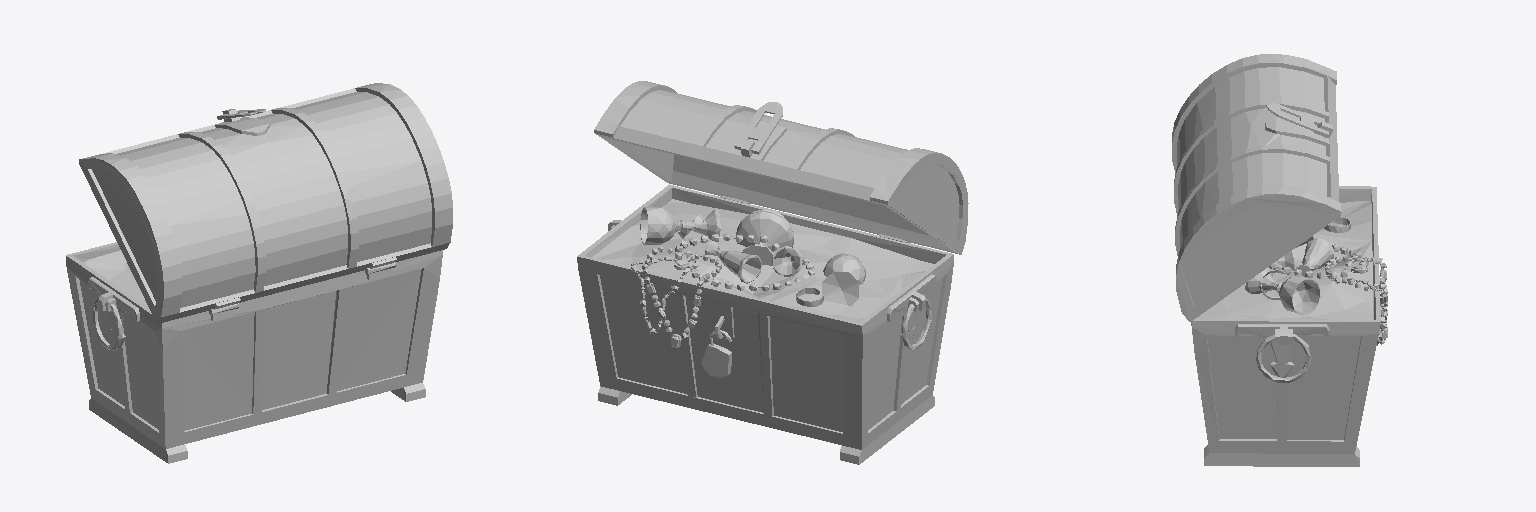
Rendered from tesouro.obj.
3 views of the same model, side by side, from view 1: azimuth 30°, elevation 25°; view 2: azimuth 150°, elevation 25°; view 3: azimuth 270°, elevation 25° (orthographic).
Size of the model in its own units: 3.17 by 2.9 by 1.9.